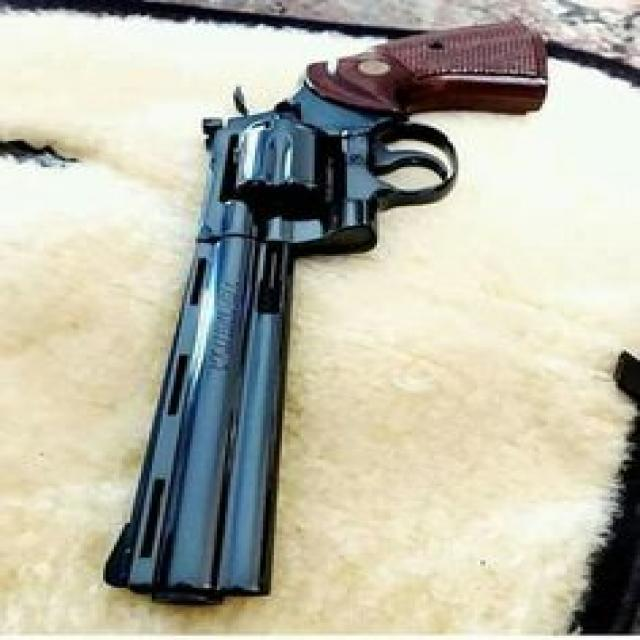revolver: (76, 2, 629, 640)
